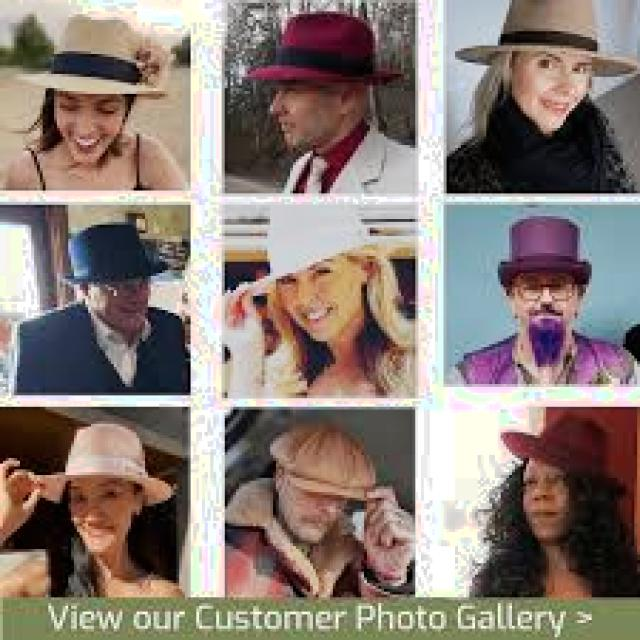TOPI: (236, 196, 395, 296), (452, 0, 637, 82), (495, 404, 637, 501), (11, 11, 171, 97), (25, 418, 174, 509), (239, 9, 401, 80), (259, 412, 384, 503), (54, 214, 171, 288), (492, 205, 592, 290)
